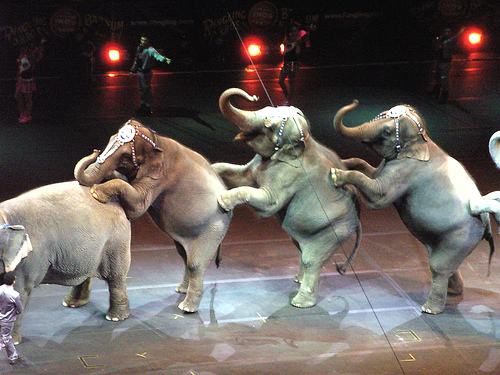elephant: (211, 76, 381, 314), (56, 114, 244, 318), (331, 92, 492, 326)
